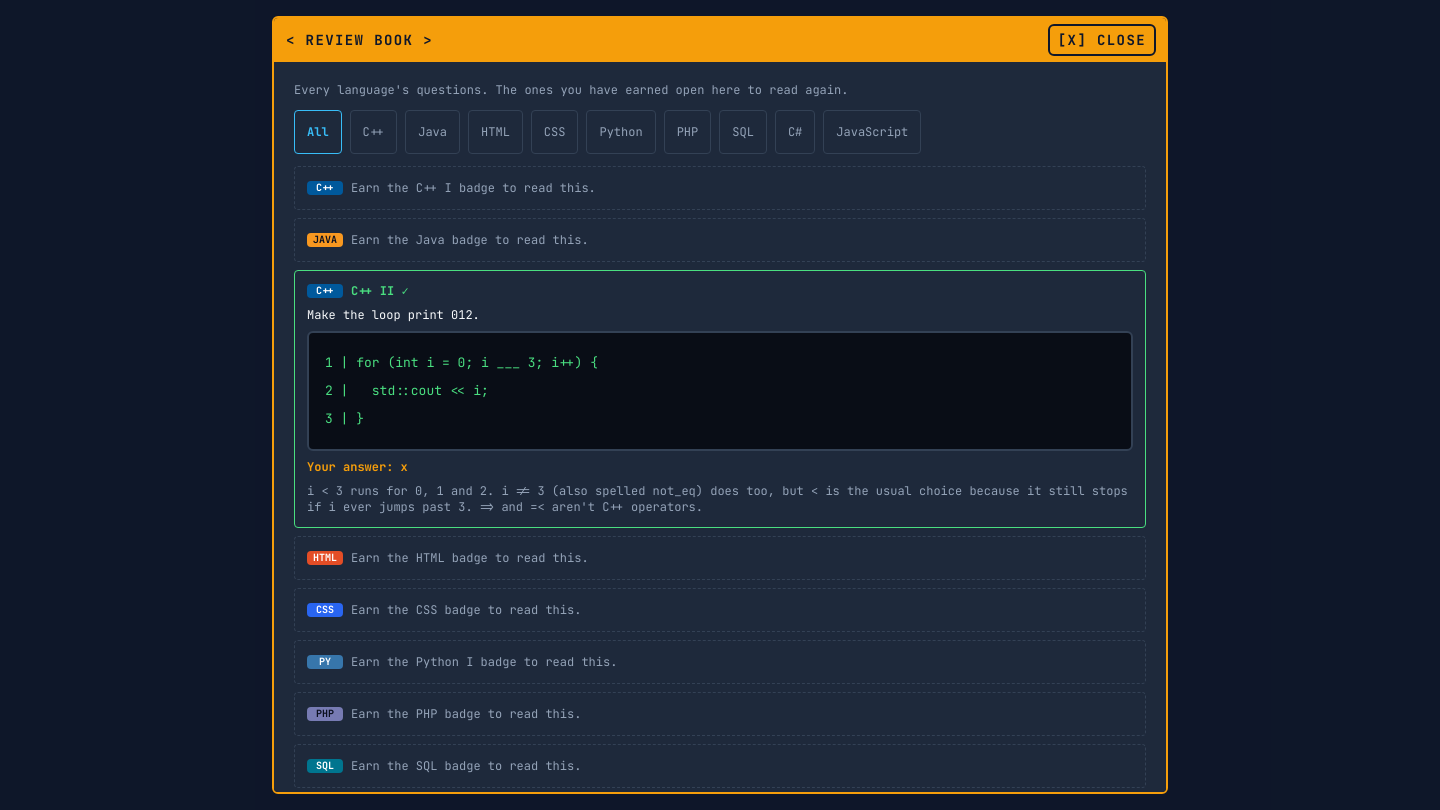
ReviewBook › filtering to a language shows only its chests, each earned or locked on its own
Click the button "C++" at [373, 132], box top-left (350, 110), bottom-right (397, 154)
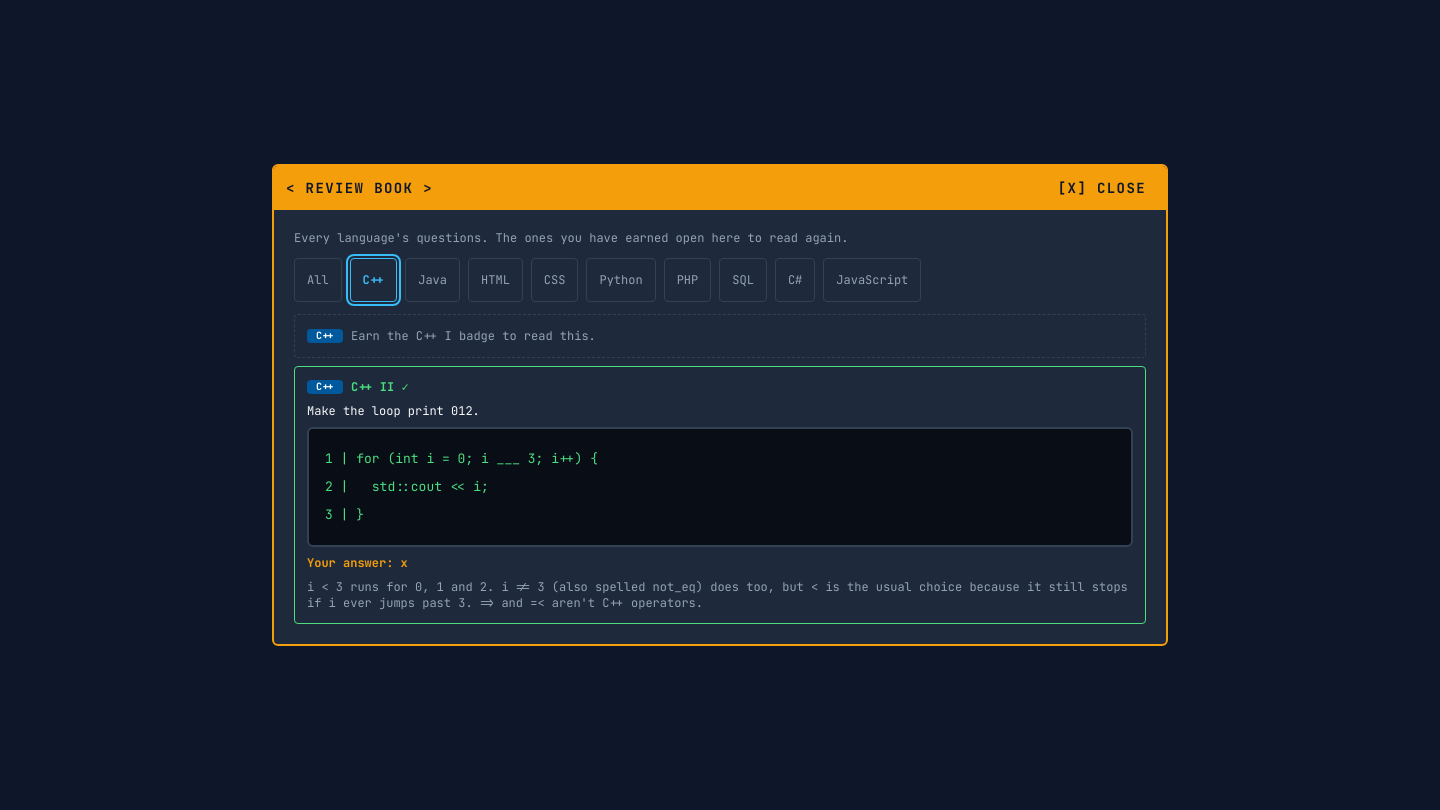
Expected: the text "Make the loop print 012." is shown, top-left (307, 403), bottom-right (480, 419)
Expected: the text "Earn the HTML badge to read this." is gone
Click the button "All" at [318, 280], box top-left (294, 258), bottom-right (342, 302)
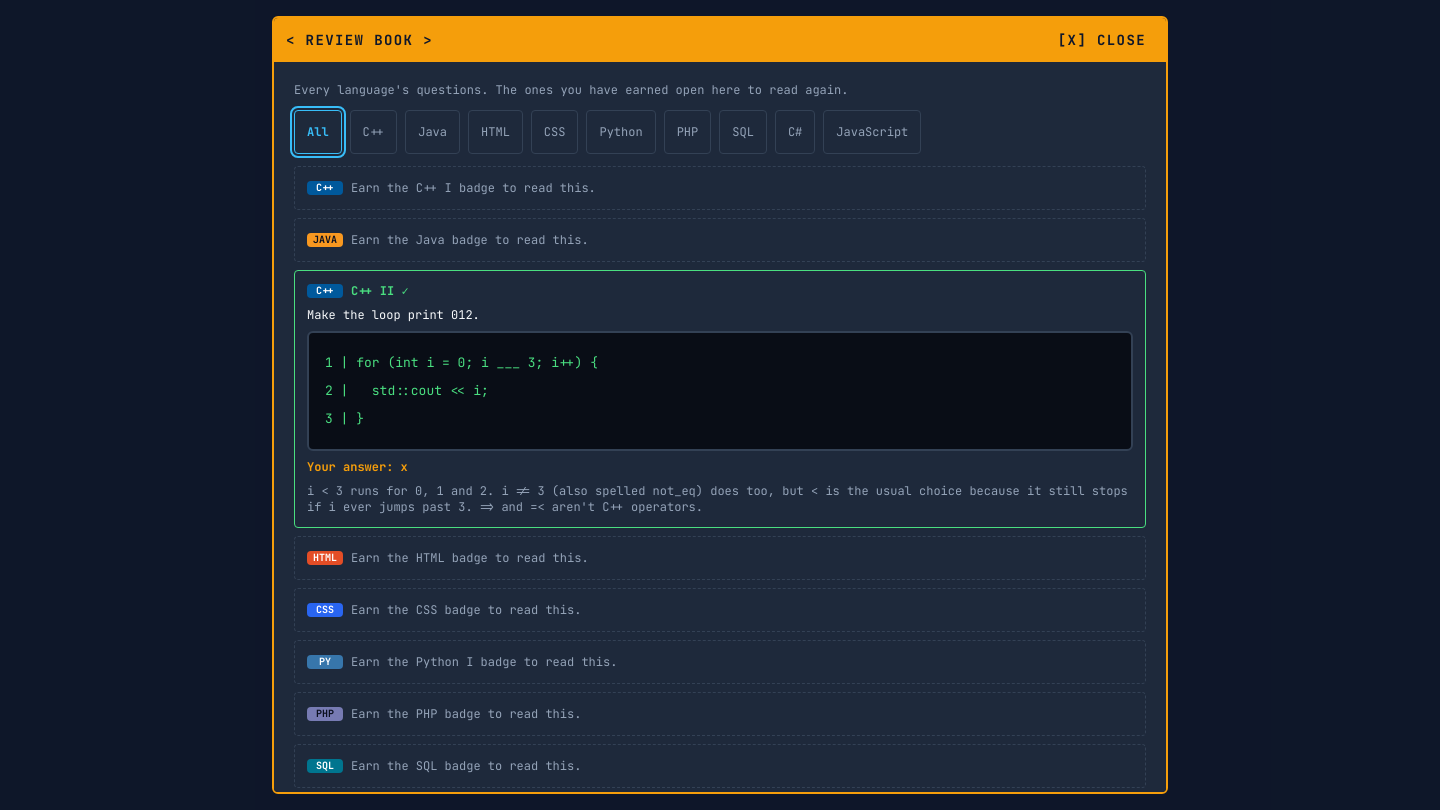
Expected: the text "Earn the HTML badge to read this." is shown, top-left (351, 550), bottom-right (589, 566)
